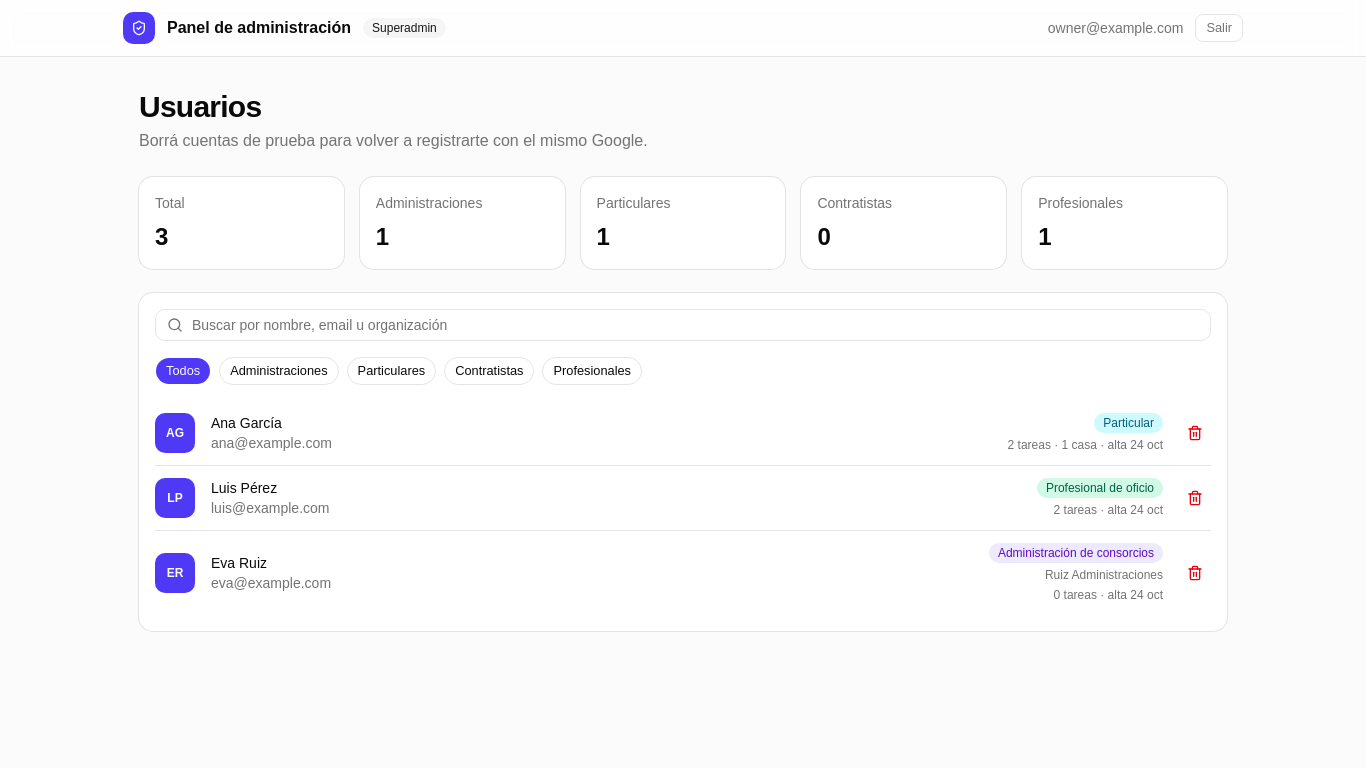
Test: AdminUsers › keeps the user when cancelling
Click the button named "Borrar a Luis Pérez".
click(1195, 498)  # box [1179,482,1211,514]
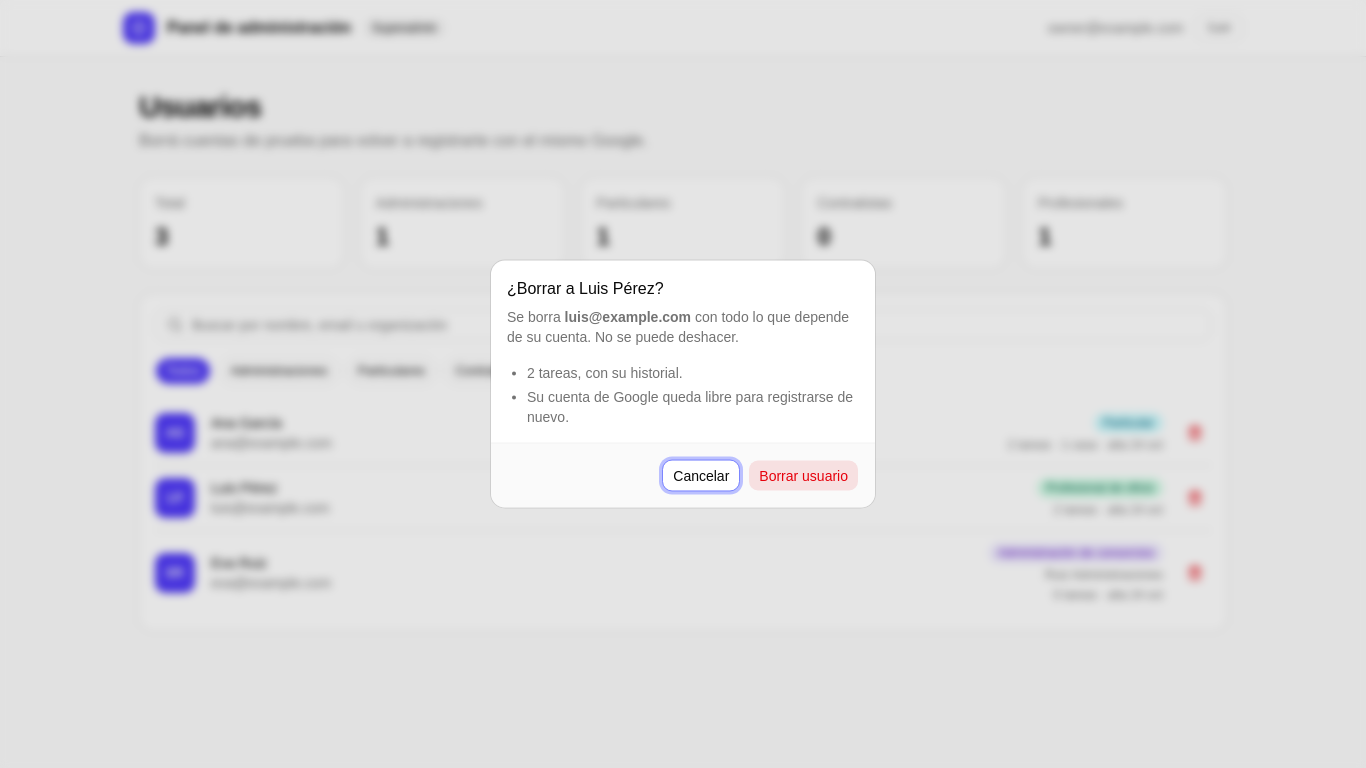
Click the button "Cancelar".
click(701, 476)  # box [662,460,740,492]
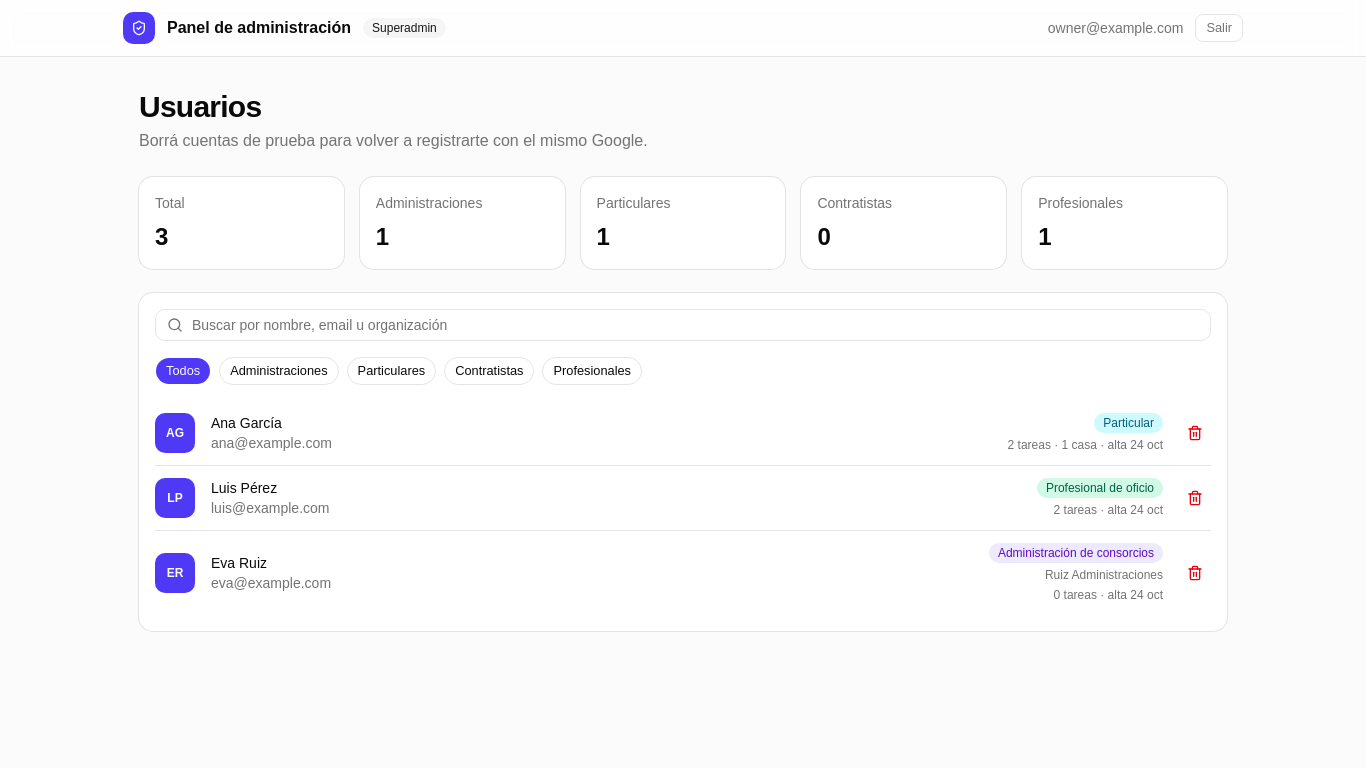
Expected: the text "Luis Pérez" is shown, [211,480,277,496]
Now the dialog is gone
